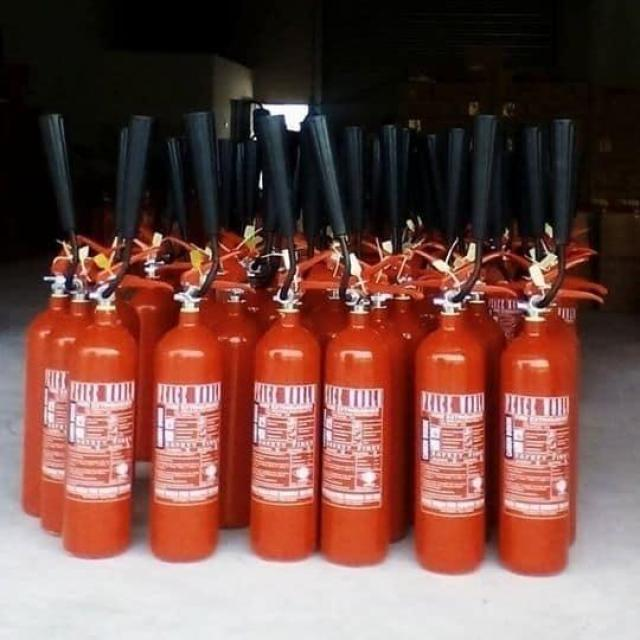fire_extinguisher: (490, 114, 594, 581), (56, 107, 158, 564), (409, 108, 506, 578), (312, 110, 398, 570), (244, 110, 327, 568), (146, 107, 223, 565), (32, 107, 98, 537), (195, 274, 267, 537), (18, 264, 88, 519)
